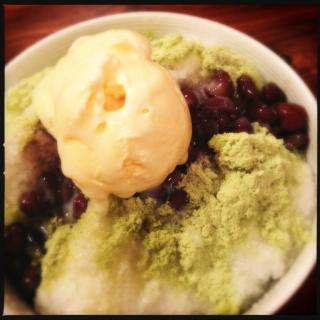Ice cream: (34, 26, 192, 202)
